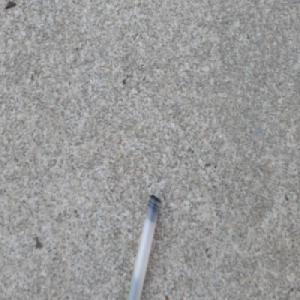Pen: (124, 191, 161, 300)
